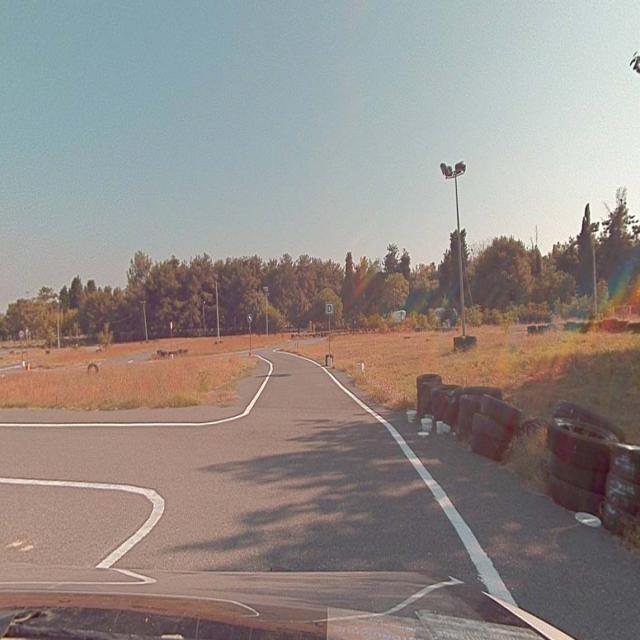durak: (326, 303, 334, 314)
